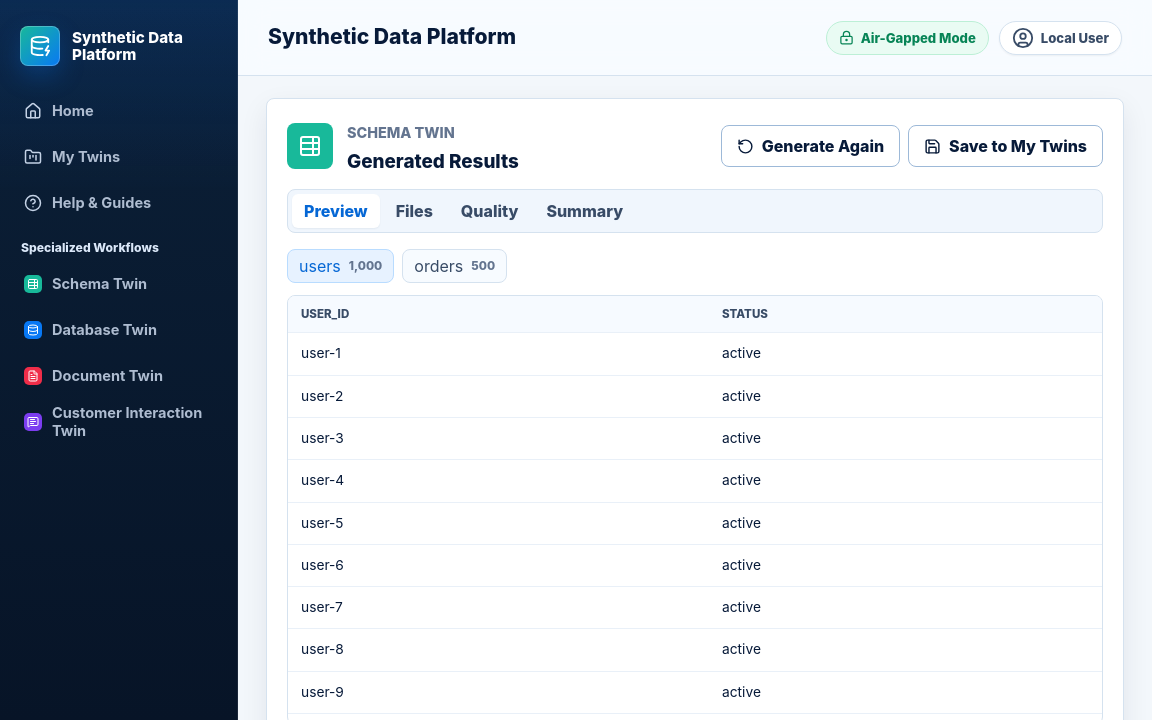
Synthetic Data Twin routed app › saves a result bundle to My Twins
The image size is (1152, 720).
Expected: the heading "Generated Results" is shown, [347,150,519,174]
Click the button "Save to My Twins".
click(1006, 146)  # box [908,125,1103,167]
(page scrolled)
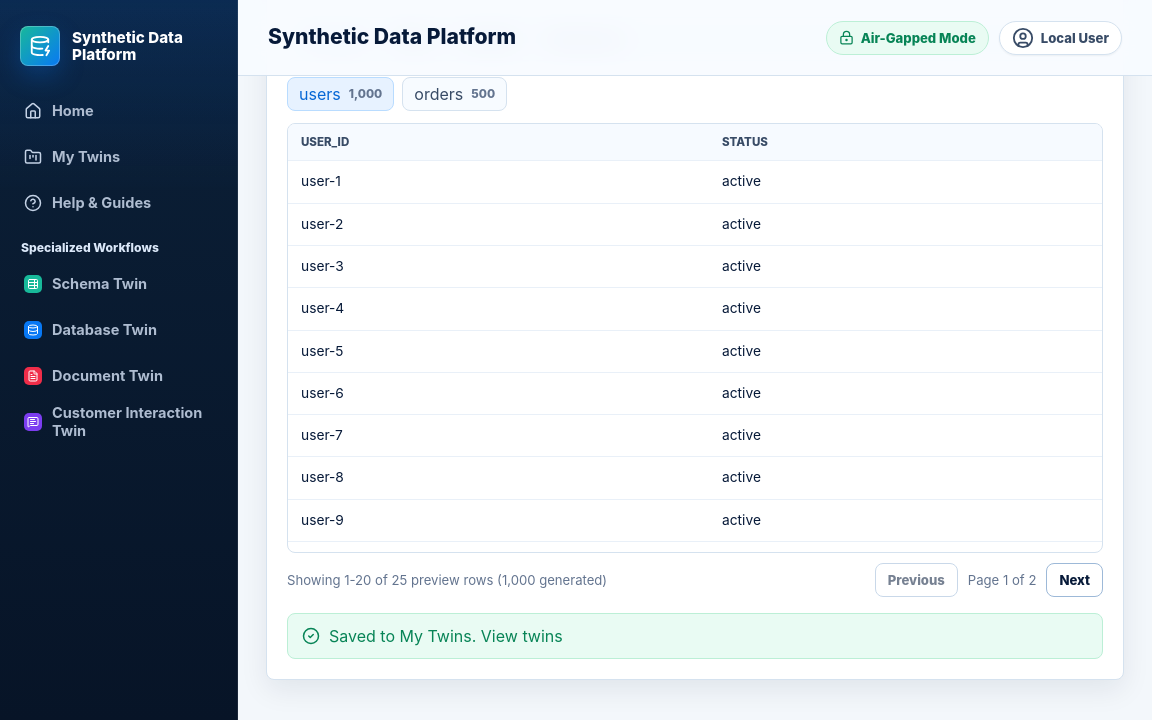
Expected: the text "Saved to My Twins. View twins" is shown, [329,626,563,646]
